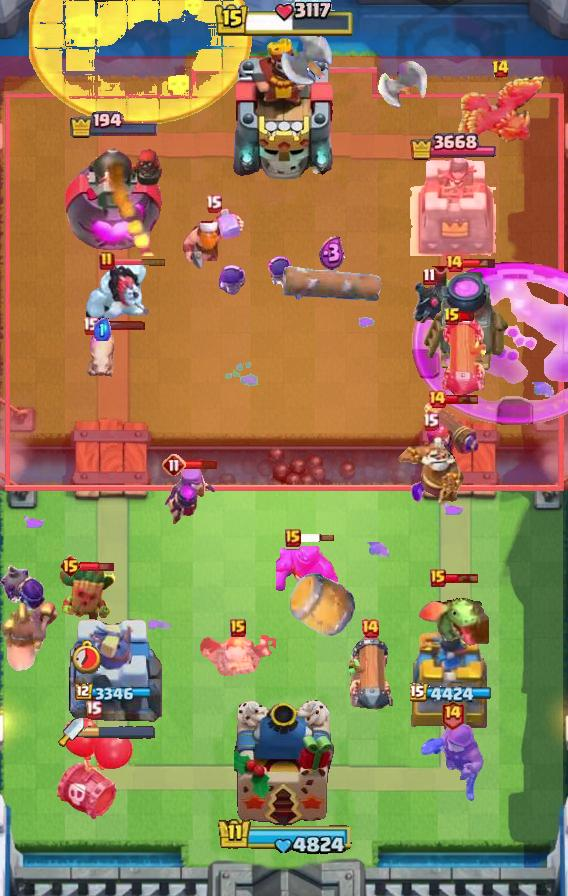bar: (66, 611, 162, 731)
battle-healer: (439, 318, 493, 400), (345, 634, 395, 722)
battle-ram: (410, 278, 448, 328)
clock: (213, 0, 355, 40), (214, 817, 354, 857)
dirt: (288, 569, 358, 639)
electro-spirit: (319, 237, 345, 271), (93, 319, 110, 342)
electro-wizard: (417, 583, 489, 649)
elixir: (70, 639, 104, 673)
elixir-collector: (395, 434, 465, 506)
emote: (96, 320, 146, 331), (113, 258, 167, 267), (80, 559, 115, 572), (444, 393, 480, 405), (444, 572, 480, 584), (462, 257, 497, 269), (184, 458, 218, 469), (299, 533, 335, 543), (460, 311, 477, 322)
fireball: (418, 724, 486, 804)
freeze: (0, 602, 58, 682)
giant: (86, 328, 118, 378)
goblin: (263, 254, 294, 294), (219, 264, 246, 298)
goblin-ball: (0, 563, 46, 621)
goblin-barrel: (58, 562, 116, 626)
hunter: (420, 266, 510, 374)
king-tower: (228, 35, 340, 181), (234, 700, 334, 826)
king-tower-bar: (84, 725, 156, 739)
knight-evolution: (412, 263, 568, 426)
mega-minion: (421, 398, 481, 478)
mighty-miner: (181, 208, 245, 272)
mini-pekka: (200, 632, 276, 680)
minion: (281, 261, 383, 305)
mother-witch: (453, 74, 547, 148)
phoenix-egg: (28, 0, 252, 124)
queen-tower: (403, 621, 503, 731), (410, 156, 496, 256)
rage: (82, 258, 150, 328)
rascal-girl: (162, 464, 216, 526)
royal-giant: (281, 35, 341, 95), (374, 61, 428, 121)
royal-recruit-evolution: (52, 717, 134, 823)
selected: (410, 130, 496, 164), (68, 111, 159, 139), (410, 683, 496, 705), (74, 683, 154, 703)
text: (440, 699, 465, 729), (162, 453, 186, 477), (58, 554, 81, 578), (444, 253, 464, 273), (427, 389, 447, 409), (360, 618, 380, 638), (491, 59, 510, 79), (443, 307, 461, 327), (85, 701, 103, 720), (206, 195, 223, 214), (82, 316, 99, 335), (99, 251, 115, 271), (421, 413, 438, 431), (285, 529, 301, 547), (430, 569, 446, 587), (230, 619, 246, 637), (422, 267, 437, 286)
tornado: (276, 542, 338, 602)
tower-bar: (63, 138, 164, 256)
